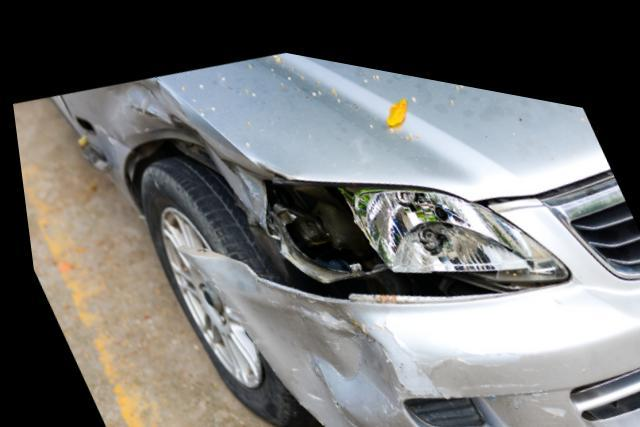dent: (96, 70, 287, 221), (224, 279, 394, 427)
dislocated part: (181, 233, 540, 427), (58, 72, 283, 226)
lamp broken: (255, 171, 557, 283)
scratch: (357, 305, 513, 385), (332, 399, 399, 427)
